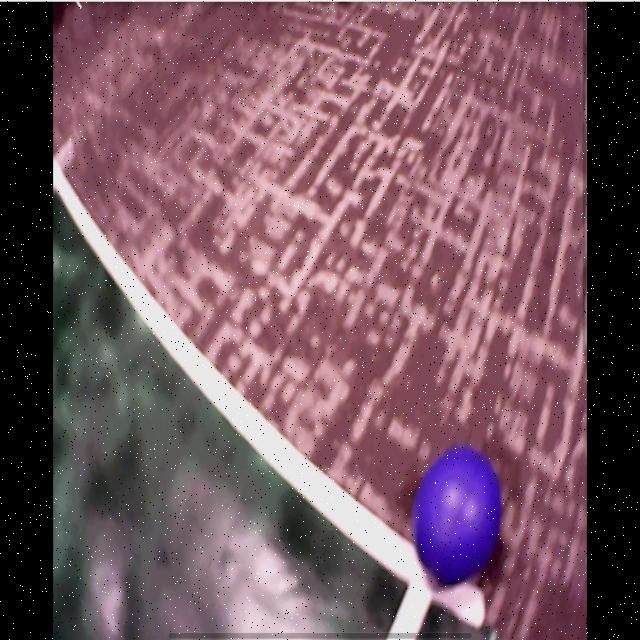ball: (415, 445, 503, 587)
